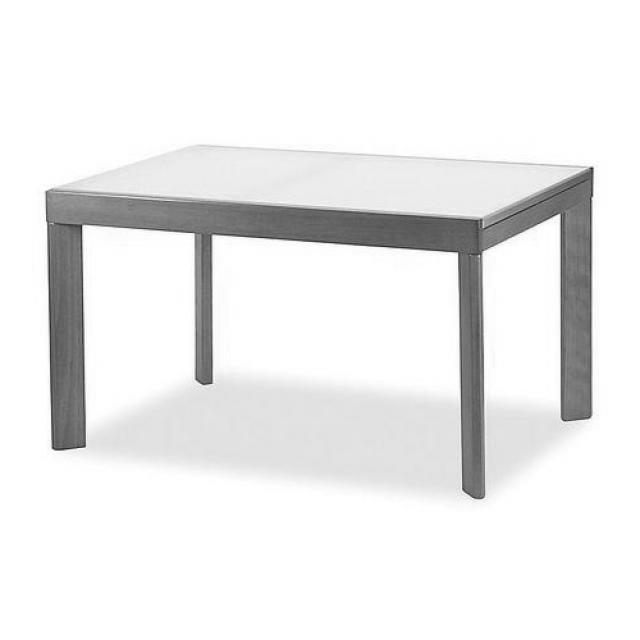table: (41, 142, 595, 500)
